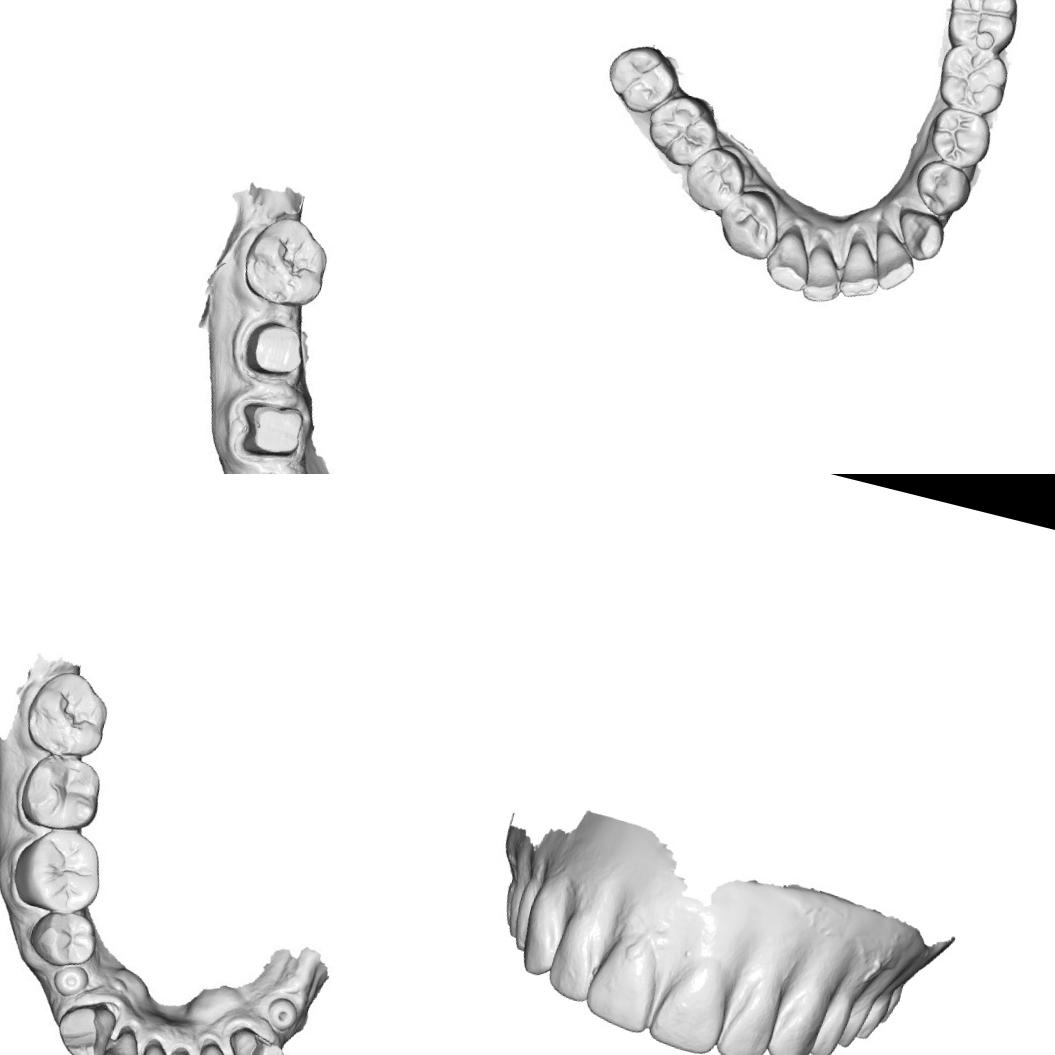canine: (514, 880, 576, 980), (758, 980, 831, 1055), (760, 222, 820, 296), (53, 996, 118, 1055), (891, 204, 951, 264), (224, 1024, 287, 1055)
crown: (232, 390, 311, 467), (240, 313, 310, 384)
implant: (43, 959, 92, 1001), (261, 988, 301, 1034)
incisor: (578, 931, 670, 1038), (643, 958, 735, 1055), (540, 911, 610, 1006), (709, 973, 781, 1055), (797, 238, 848, 302), (867, 232, 920, 293), (840, 230, 888, 296), (96, 1022, 152, 1055), (127, 1035, 179, 1055), (192, 1042, 247, 1055)
molar: (232, 208, 338, 316), (7, 818, 116, 922), (14, 663, 115, 769), (12, 744, 116, 838), (934, 42, 1014, 119), (601, 38, 678, 116), (642, 93, 720, 169), (944, 0, 1023, 60)
premolar: (713, 179, 783, 264), (24, 901, 101, 974), (926, 105, 992, 171), (680, 147, 745, 214), (912, 158, 972, 218)
